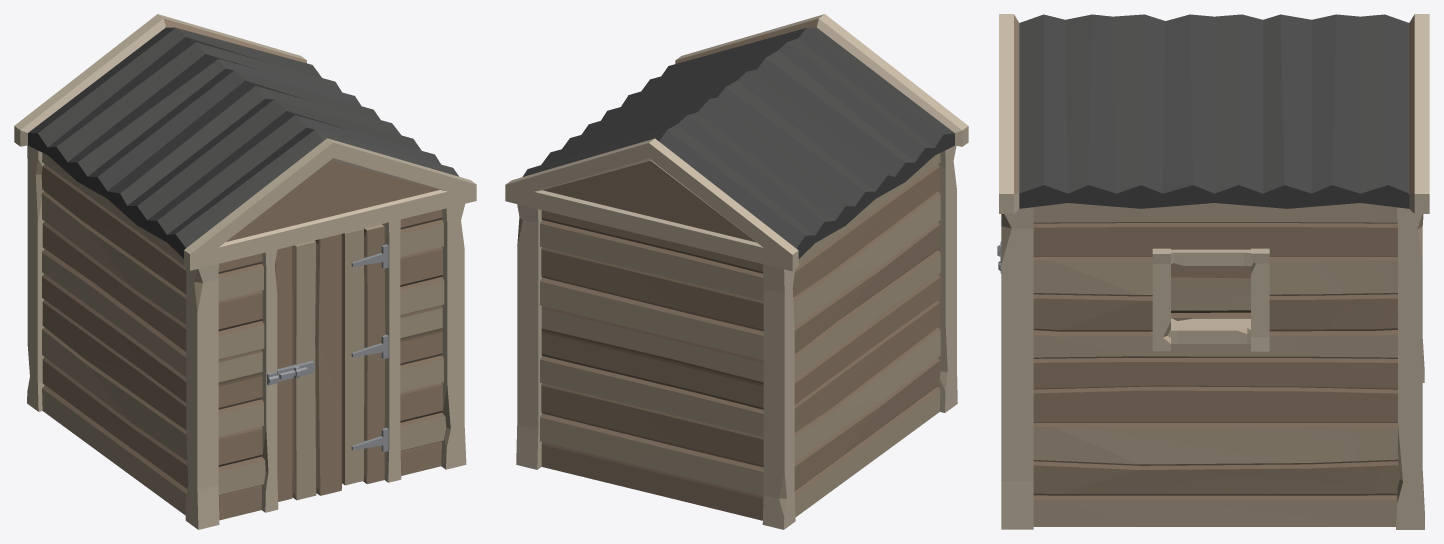
File: SM_Bld_GardenShed_01.fbx
3 views of the same model, side by side, from view 1: azimuth 30°, elevation 25°; view 2: azimuth 150°, elevation 25°; view 3: azimuth 270°, elevation 25° (orthographic). The views are drawn at different scales.
Parts seen in each view (by area): view 1: SM_Bld_GardenShed_01, SM_Bld_GardenShed_Door_01; view 2: SM_Bld_GardenShed_01; view 3: SM_Bld_GardenShed_01.
Part boxes in pixels (box(x1,y1,x2,y2)): SM_Bld_GardenShed_01: box(14, 14, 476, 529); SM_Bld_GardenShed_Door_01: box(275, 224, 388, 501); SM_Bld_GardenShed_01: box(505, 14, 968, 529); SM_Bld_GardenShed_01: box(997, 14, 1429, 529).
Size of the model in its own units: 235 by 278 by 250.
